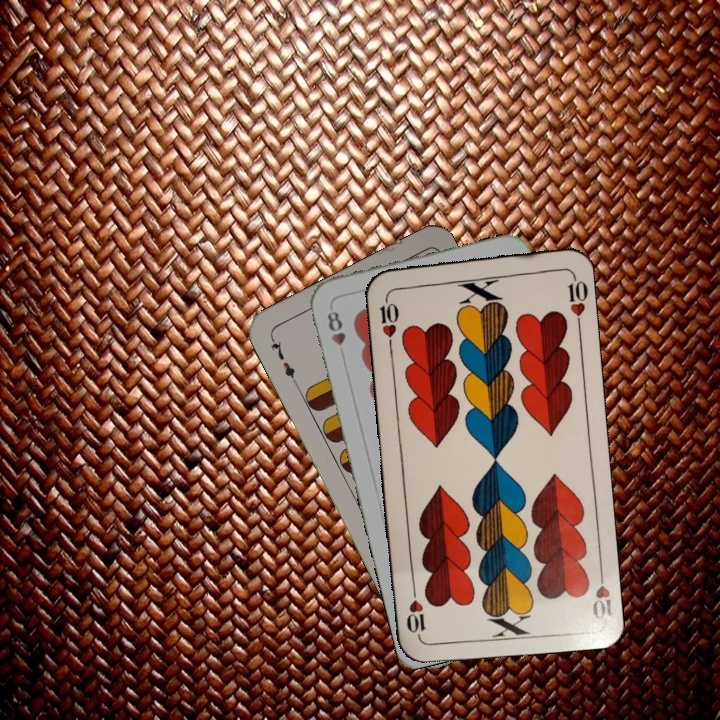E7: (266, 333, 301, 387)
H10: (587, 562, 614, 622), (375, 290, 402, 349)
H8: (323, 307, 348, 349)
